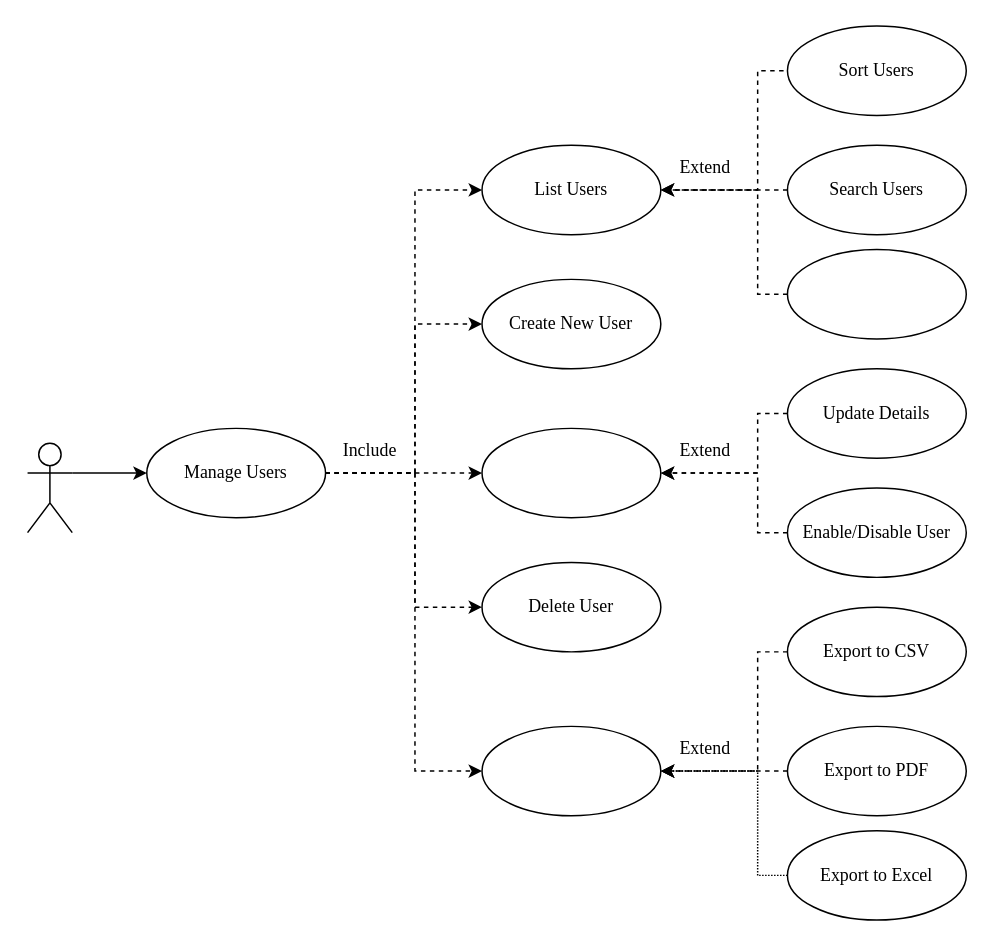
This 992x946 diagram has some shape labels left out. The box of each missing label's shape, as (x1, y1, x2, y2) in pixels:
Admin: (26, 442, 72, 533)
Export Users Information: (481, 725, 661, 816)
Update Existing User: (481, 427, 661, 518)
Use Pagination: (786, 248, 966, 339)
